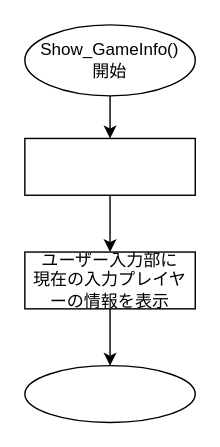
The diagram is 220 pixels wide and 447 high, and some of its shapes have lost their labels. The centre of each missing label's shape, as x and y in pixels:
"Show_GameInfo() 終了" goes at pixel 109 393.
"現在のマス目情報 ゲーム進行の ルールを表示" goes at pixel 109 166.
